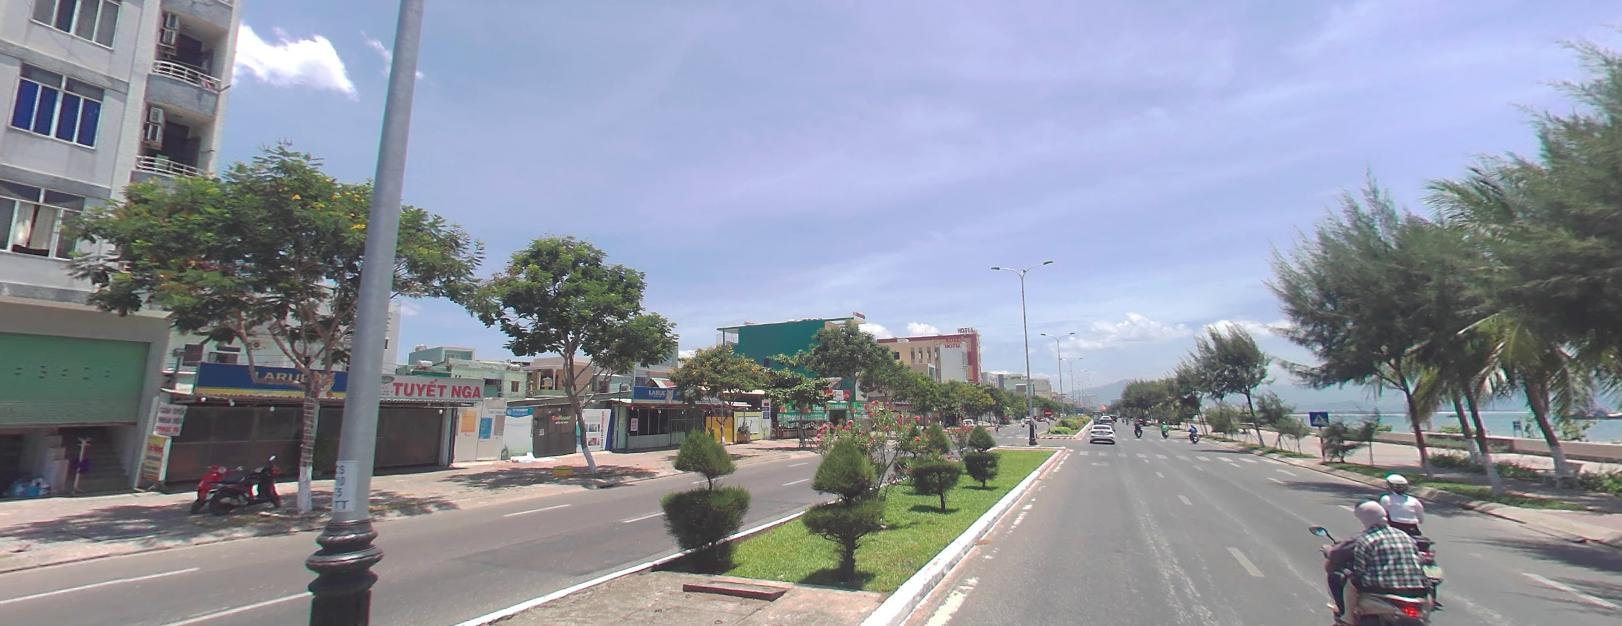Cam nguoc chieu: (1044, 407, 1051, 414)
